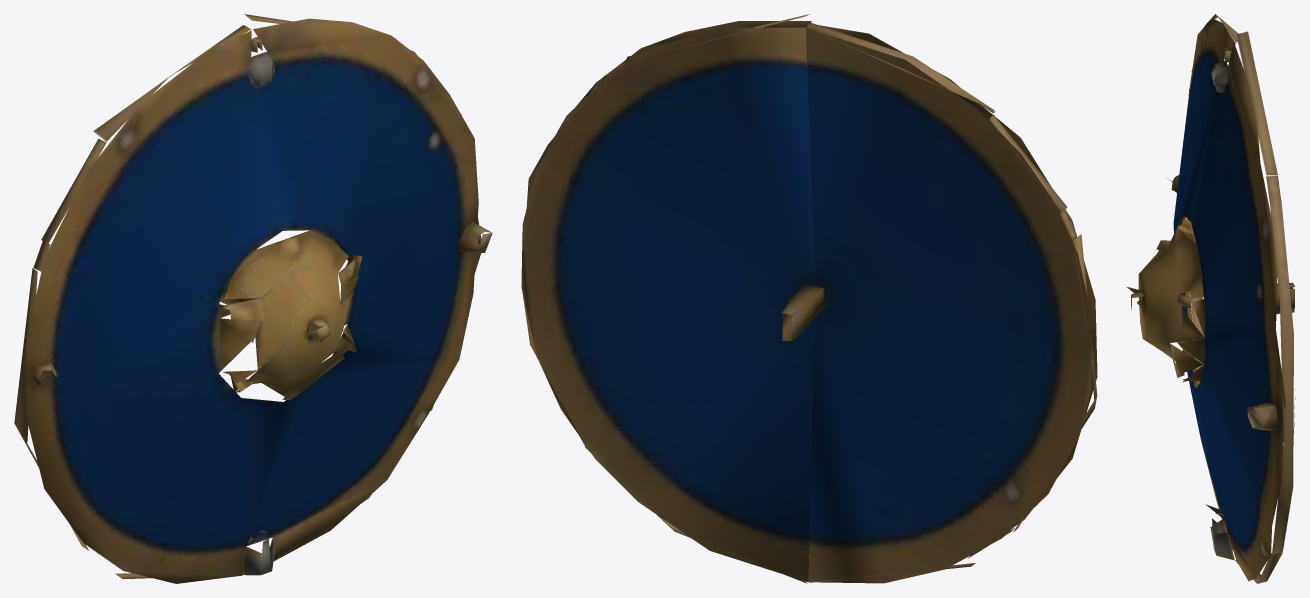
File: g_shield_round_lod1.fbx
3 views of the same model, side by side, from view 1: azimuth 30°, elevation 25°; view 2: azimuth 150°, elevation 25°; view 3: azimuth 270°, elevation 25° (orthographic). The views are drawn at different scales.
Parts seen in each view (by area): view 1: tripo_node_148ce0d1-b1fd-48fb-b690-da6d13ecf979; view 2: tripo_node_148ce0d1-b1fd-48fb-b690-da6d13ecf979; view 3: tripo_node_148ce0d1-b1fd-48fb-b690-da6d13ecf979.
Boxes of the visible parts, x1,y1,x2,y2 form: tripo_node_148ce0d1-b1fd-48fb-b690-da6d13ecf979: (14,14,492,583); tripo_node_148ce0d1-b1fd-48fb-b690-da6d13ecf979: (521,14,1097,583); tripo_node_148ce0d1-b1fd-48fb-b690-da6d13ecf979: (1126,14,1295,583).
Bounding box in the file's own units: 0.7784 × 0.8008 × 0.2347.
